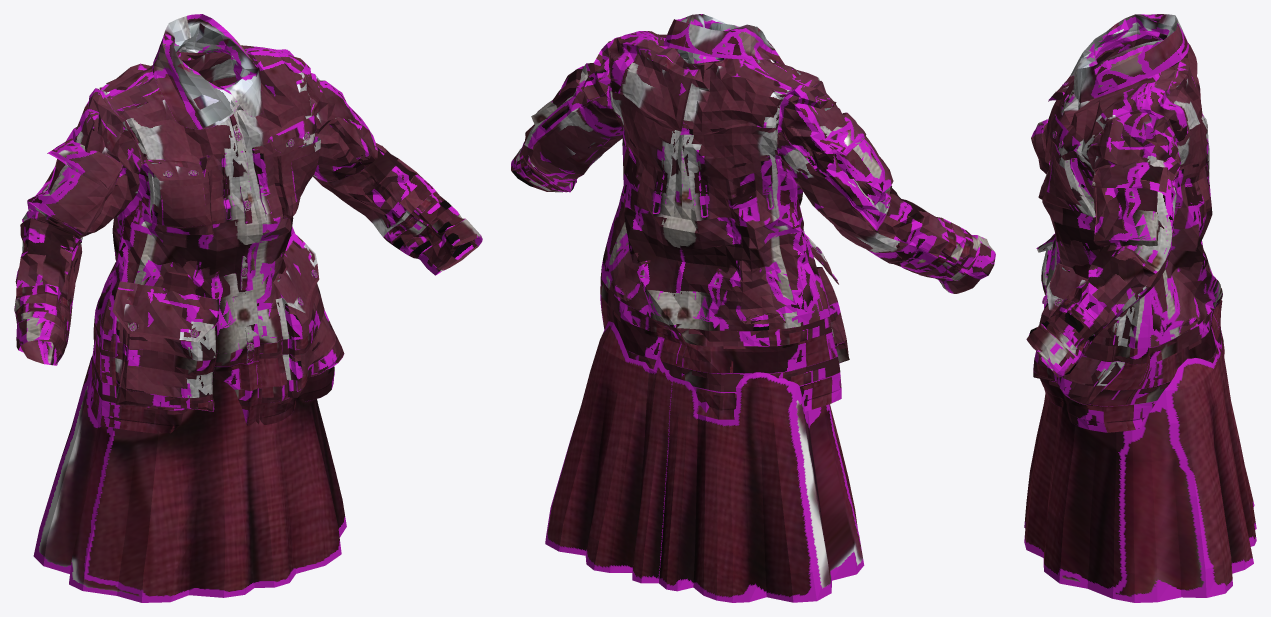
3 renders of one model, left to right at view 1: azimuth 30°, elevation 25°; view 2: azimuth 150°, elevation 25°; view 3: azimuth 270°, elevation 25°, orthographic. The views are drawn at different scales.
Bounding box in the file's own units: 0.7874 × 0.8405 × 0.3428.
Materials: 1 (1 with a texture image).
